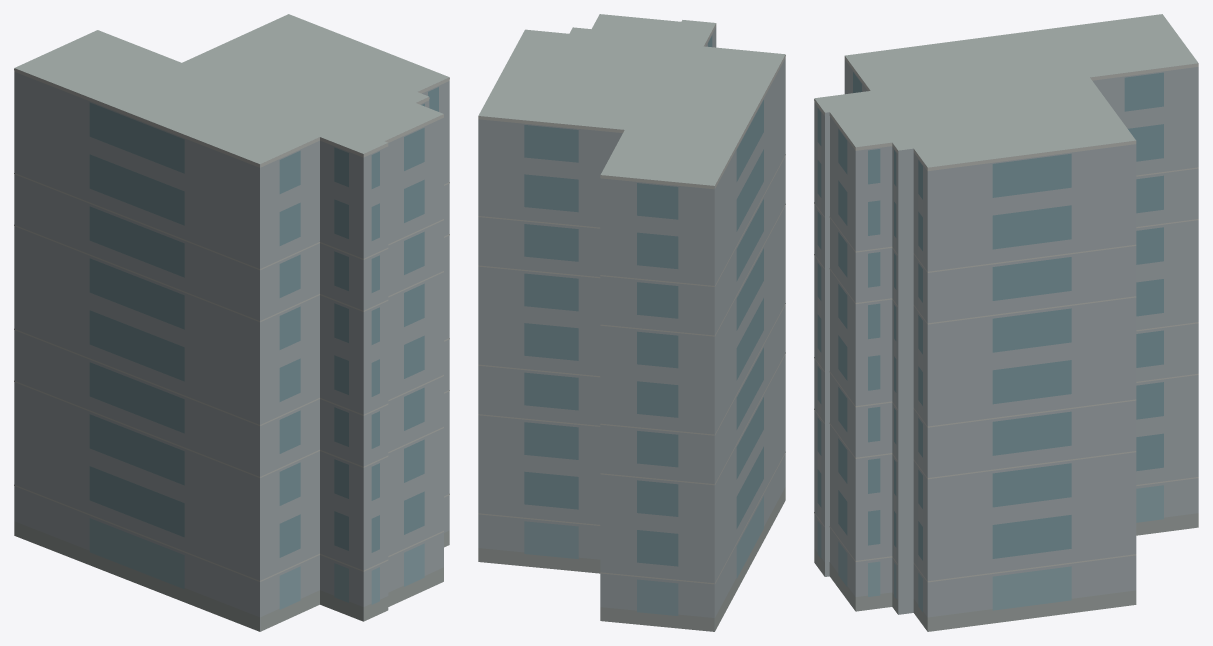
The model's file is survey-upis-32560913.glb.
3 renders of one model, left to right at view 1: azimuth 30°, elevation 25°; view 2: azimuth 150°, elevation 25°; view 3: azimuth 270°, elevation 25°, orthographic. The views are drawn at different scales.
Visible parts, largest first — view 1: survey-upis-32560913.tmp; view 2: survey-upis-32560913.tmp; view 3: survey-upis-32560913.tmp.
Boxes of the visible parts, left/top/right/bottom form: survey-upis-32560913.tmp: left=14, top=14, right=449, bottom=631; survey-upis-32560913.tmp: left=478, top=14, right=785, bottom=631; survey-upis-32560913.tmp: left=814, top=14, right=1198, bottom=631.
Size of the model in its own units: 22.38 by 31.5 by 23.67.
